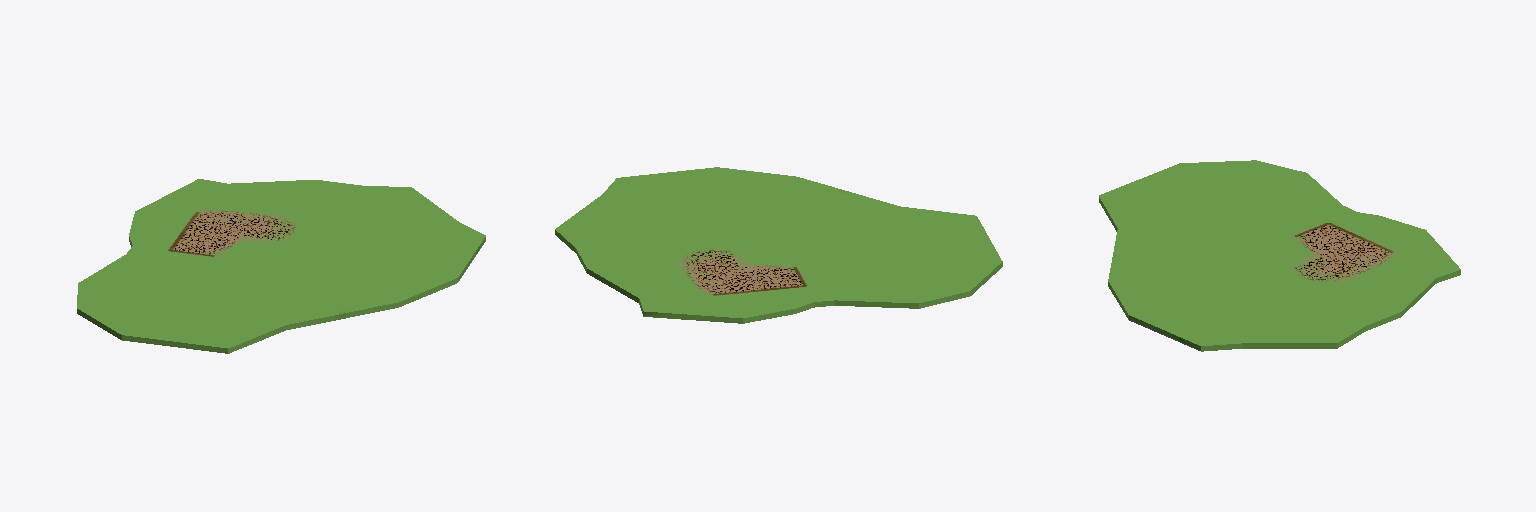
3 views of the same model, side by side, from view 1: azimuth 30°, elevation 25°; view 2: azimuth 150°, elevation 25°; view 3: azimuth 270°, elevation 25° (orthographic).
Parts seen in each view (by area): view 1: Cube_Cube.001; view 2: Cube_Cube.001; view 3: Cube_Cube.001.
Part boxes in pixels (left/top/right/bottom): Cube_Cube.001: left=77, top=179, right=485, bottom=353; Cube_Cube.001: left=555, top=167, right=1002, bottom=323; Cube_Cube.001: left=1099, top=160, right=1460, bottom=351.
Size of the model in its own units: 93.16 by 1.25 by 76.8.
Materials: 1 (1 with a texture image).